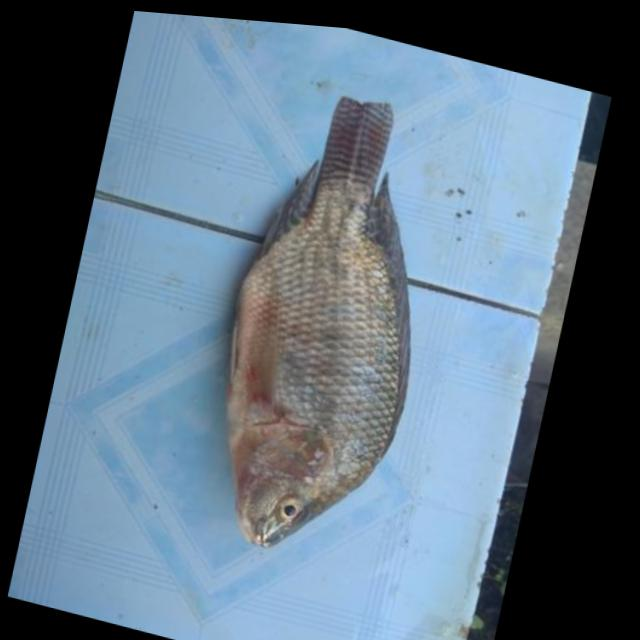Tilapia: (180, 69, 466, 584)
